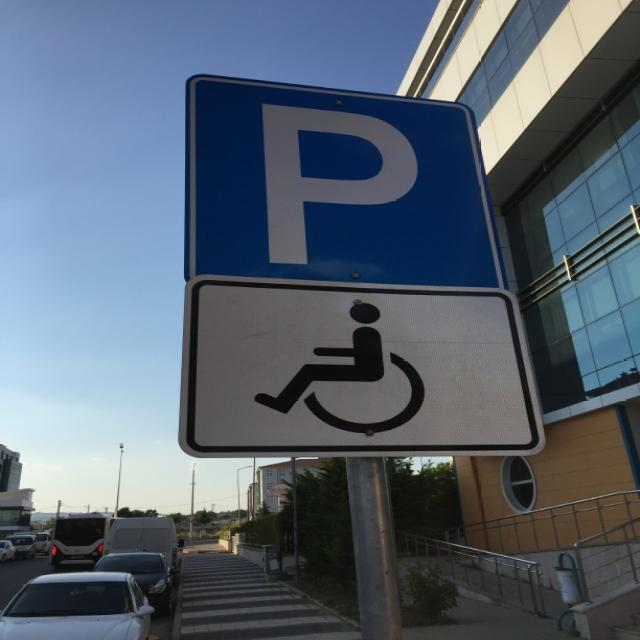park: (183, 74, 502, 278)
